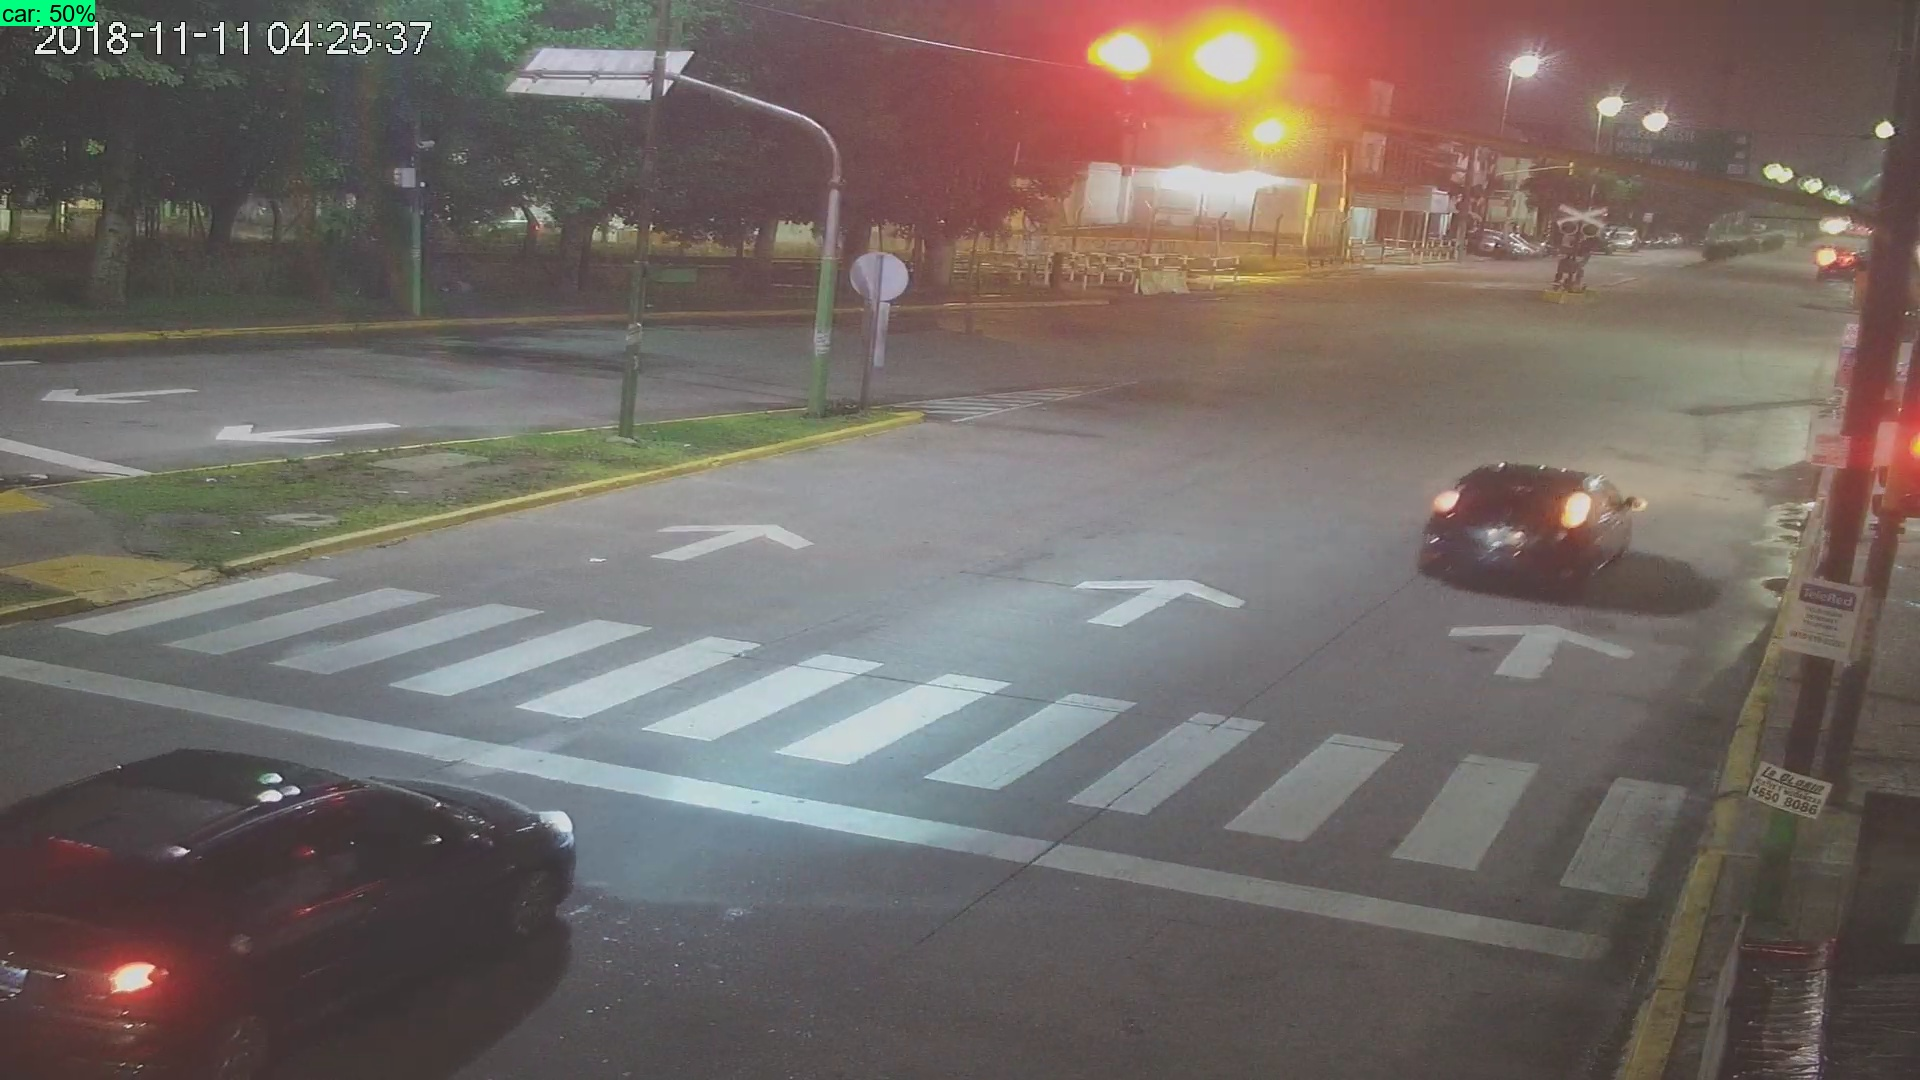car: (1, 750, 582, 1080), (1423, 447, 1644, 615)
